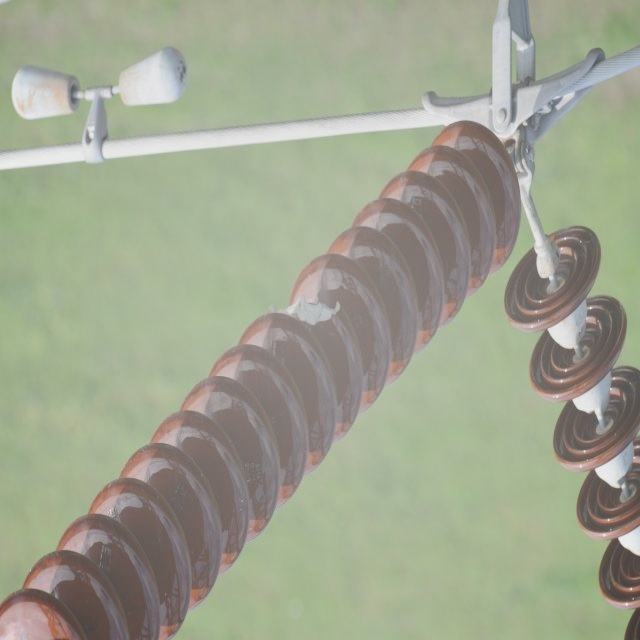broken: (267, 295, 345, 331)
insulator: (0, 124, 521, 636), (505, 221, 640, 640)
